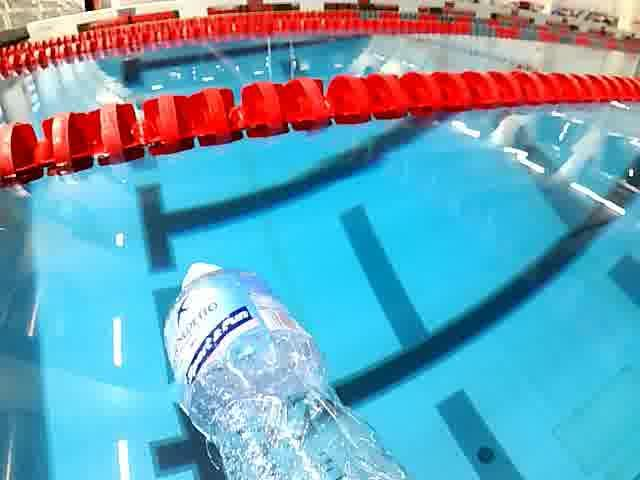Bottle: (160, 252, 420, 480)
